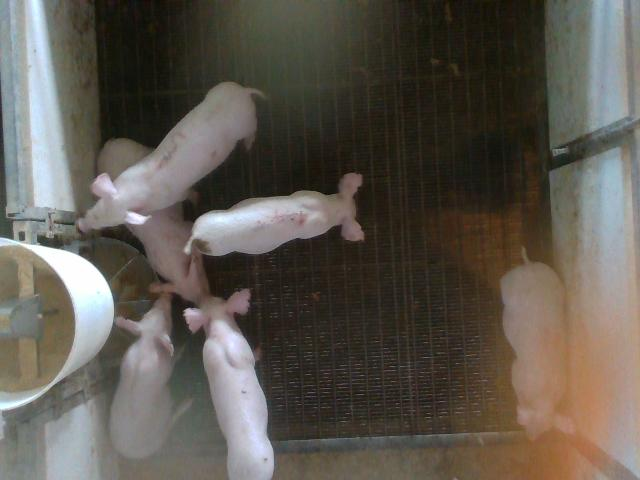pig-3: (78, 82, 264, 232)
pig-5: (185, 172, 363, 256)
